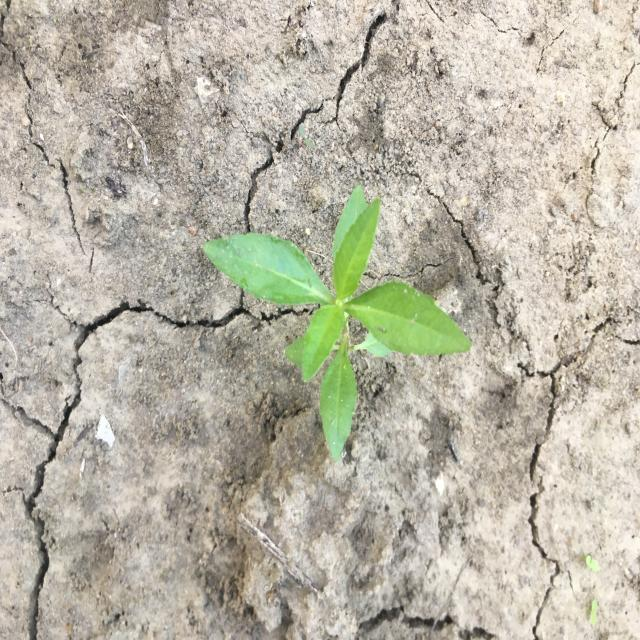Eclipta: (202, 182, 472, 464)
